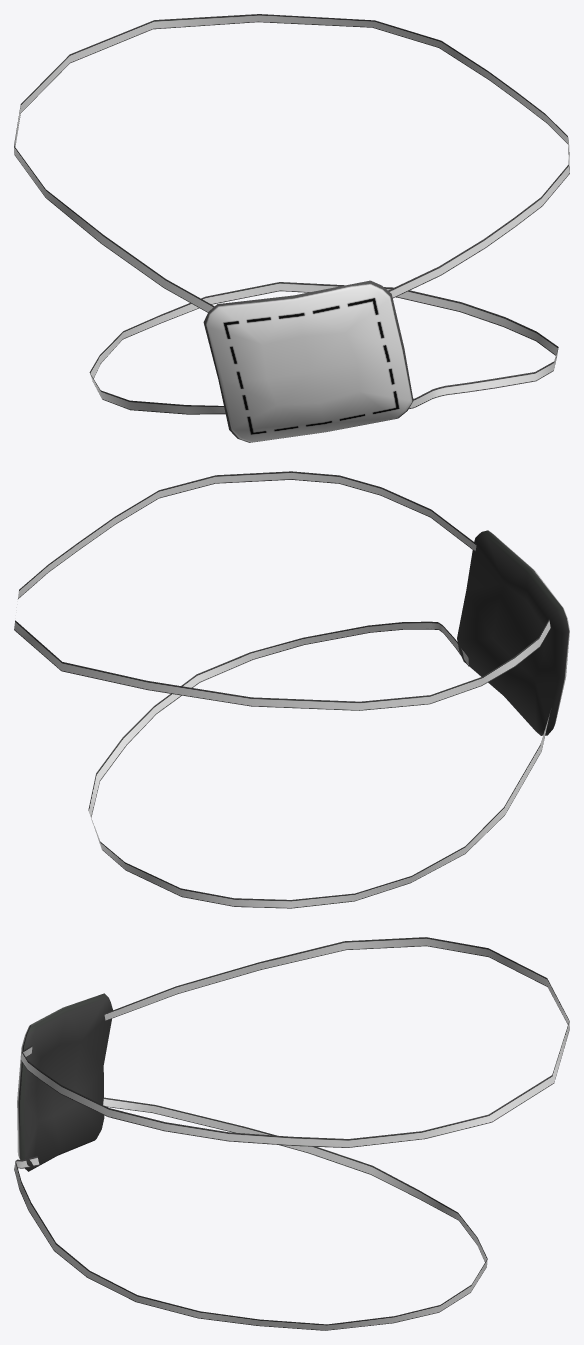
Rendered from _headwear_03_huawei0.fbx.
3 views of the same model, one above another, from view 1: azimuth 30°, elevation 25°; view 2: azimuth 150°, elevation 25°; view 3: azimuth 270°, elevation 25° (orthographic). The views are drawn at different scales.
Parts seen in each view (by area): view 1: f_headwear_03_huawei0; view 2: f_headwear_03_huawei0; view 3: f_headwear_03_huawei0.
Part boxes in pixels (<box>): f_headwear_03_huawei0: <box>14,14,569,442</box>; f_headwear_03_huawei0: <box>14,471,569,908</box>; f_headwear_03_huawei0: <box>14,937,569,1330</box>.
Size of the model in its own units: 16.19 by 8.95 by 18.46.
